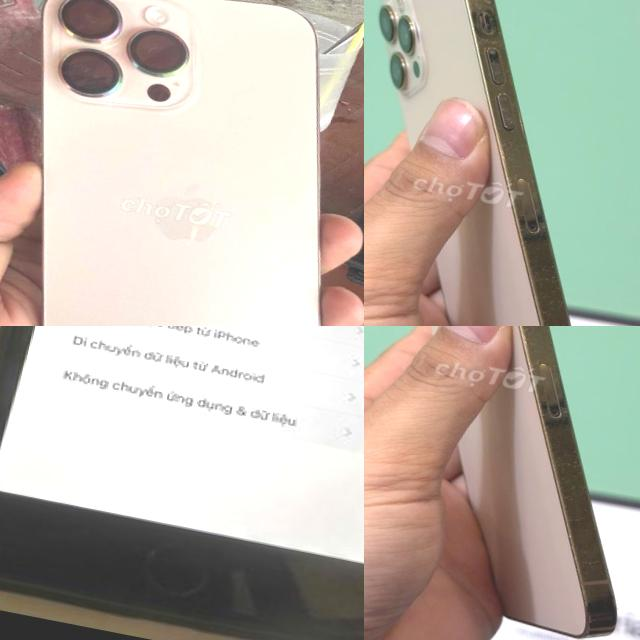scratch: (409, 0, 606, 285), (431, 326, 628, 470)
